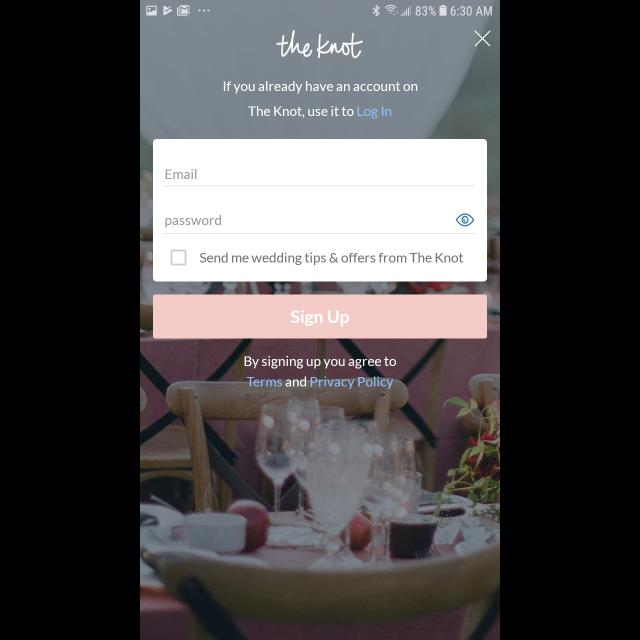backgroundimage: (140, 18, 500, 640)
checkbox: (170, 250, 186, 264)
icon: (474, 30, 491, 48), (456, 213, 474, 227)
image: (276, 30, 364, 59)
input: (164, 213, 476, 234), (164, 169, 476, 187)
text: (201, 252, 464, 266), (224, 82, 418, 95), (248, 106, 392, 120), (246, 376, 394, 389), (244, 356, 396, 368), (166, 216, 222, 228), (166, 169, 197, 179)
textbutton: (153, 295, 487, 339)
uppertaskbar: (140, 1, 500, 18)
